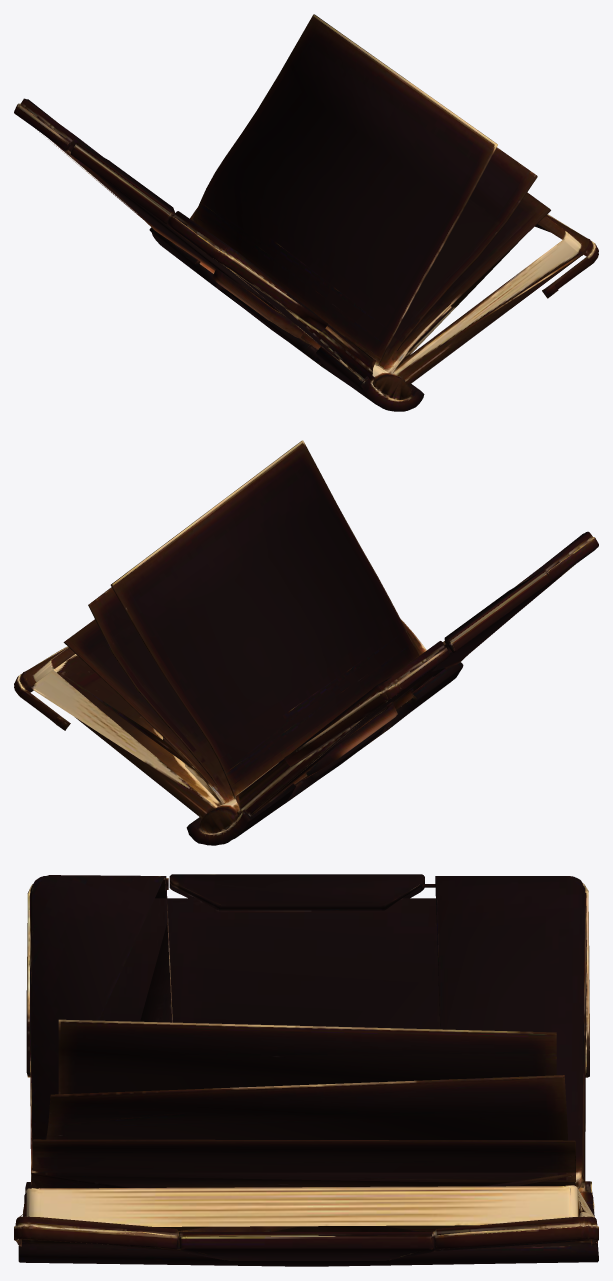
Rendered from blog-codex.glb.
3 renders of one model, top to bottom at view 1: azimuth 30°, elevation 25°; view 2: azimuth 150°, elevation 25°; view 3: azimuth 270°, elevation 25°, orthographic. The views are drawn at different scales.
Visible parts, largest first — view 1: Amber Circuitry Codex; view 2: Amber Circuitry Codex; view 3: Amber Circuitry Codex.
Part boxes in pixels (left/top/right/bottom): Amber Circuitry Codex: left=14, top=14, right=598, bottom=411; Amber Circuitry Codex: left=14, top=440, right=598, bottom=845; Amber Circuitry Codex: left=14, top=874, right=598, bottom=1266.
Size of the model in its own units: 0.998 by 0.584 by 0.998.
1 material, 1 textured.
